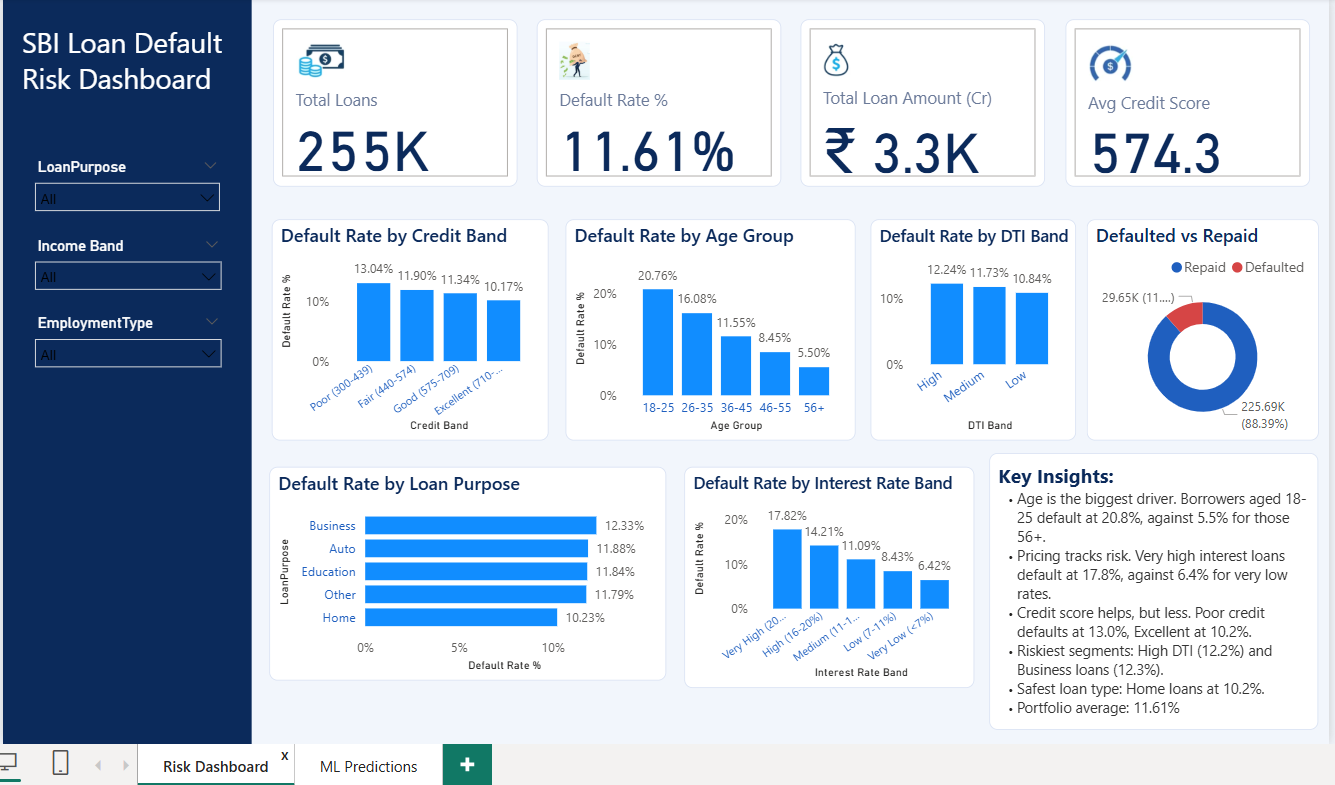

Layout of this report page (visuals, bound fields, positions):
{"tool":"powerbi","page":{"name":"Risk Dashboard","canvas":[1280,720],"ordinal":0},"visuals":[{"type":"shape","box":[0,0,240.1,720.4],"z":0},{"type":"textbox","box":[13.5,19.6,215.2,110.1],"z":1000},{"type":"slicer","fields":{"Values":["Loan_default.LoanPurpose"]},"box":[20.6,149.6,199,64.5],"z":2000},{"type":"slicer","fields":{"Values":["Loan_default.Income Band"]},"box":[20.6,225,200.3,64],"z":3000},{"type":"slicer","fields":{"Values":["Loan_default.EmploymentType"]},"box":[20.6,300.5,200.3,64],"z":4000},{"type":"cardVisual","fields":{"Data":["Loan_default.Total Loan Amount"]},"box":[770,20,236.2,161.2],"z":5000},{"type":"cardVisual","fields":{"Data":["Loan_default.Default Rate %"]},"box":[515,20.6,236,161.9],"z":6000},{"type":"cardVisual","fields":{"Data":["Loan_default.Total Loans"]},"box":[260,20,236,161.9],"z":7000},{"type":"cardVisual","fields":{"Data":["Loan_default.Avg Credit Score"]},"box":[1025,20.6,236,161.9],"z":8000},{"type":"clusteredColumnChart","title":"Default Rate by Credit Band","fields":{"Category":["Loan_default.Credit Band"],"Y":["Loan_default.Default Rate %"]},"box":[259.5,213.9,267.1,213.9],"z":9000},{"type":"clusteredColumnChart","title":"Default Rate by DTI Band","fields":{"Y":["Loan_default.Default Rate %"],"Category":["Loan_default.DTI Band"]},"box":[836.7,213.9,198.7,213.9],"z":10000},{"type":"clusteredColumnChart","title":"Default Rate by Age Group","fields":{"Y":["Loan_default.Default Rate %"],"Category":["Loan_default.Age Group"]},"box":[543,213.9,279.7,213.9],"z":11000},{"type":"clusteredBarChart","title":"Default Rate by Loan Purpose","fields":{"Y":["Loan_default.Default Rate %"],"Category":["Loan_default.LoanPurpose"]},"box":[257,451.9,383.5,206.3],"z":12000},{"type":"donutChart","title":"Defaulted vs Repaid","fields":{"Y":["Loan_default.Total Loans"],"Category":["Loan_default.Default Status"]},"box":[1045.6,213.9,224.1,213.9],"z":13000},{"type":"clusteredColumnChart","title":"Default Rate by Interest Rate Band","fields":{"Y":["Loan_default.Default Rate %"],"Category":["Loan_default.Interest Rate Band"]},"box":[657,451.9,279.7,213.9],"z":14000},{"type":"textbox","box":[951.9,439.2,317.7,267.1],"z":15000}]}

Visuals, with their boxes on the page's 1280x720 design canvas (x1, y1, x2, y2). These are canvas units, not pixel positions in the 1335x785 screenshot, which may show the page scaled, cropped or inside an application window:
shape: <region>0, 0, 240, 720</region>
textbox: <region>14, 20, 229, 130</region>
slicer - Loan_default.LoanPurpose: <region>21, 150, 220, 214</region>
slicer - Loan_default.Income Band: <region>21, 225, 221, 289</region>
slicer - Loan_default.EmploymentType: <region>21, 300, 221, 364</region>
cardVisual - Loan_default.Total Loan Amount: <region>770, 20, 1006, 181</region>
cardVisual - Loan_default.Default Rate %: <region>515, 21, 751, 182</region>
cardVisual - Loan_default.Total Loans: <region>260, 20, 496, 182</region>
cardVisual - Loan_default.Avg Credit Score: <region>1025, 21, 1261, 182</region>
"Default Rate by Credit Band" clusteredColumnChart: <region>260, 214, 527, 428</region>
"Default Rate by DTI Band" clusteredColumnChart: <region>837, 214, 1035, 428</region>
"Default Rate by Age Group" clusteredColumnChart: <region>543, 214, 823, 428</region>
"Default Rate by Loan Purpose" clusteredBarChart: <region>257, 452, 640, 658</region>
"Defaulted vs Repaid" donutChart: <region>1046, 214, 1270, 428</region>
"Default Rate by Interest Rate Band" clusteredColumnChart: <region>657, 452, 937, 666</region>
textbox: <region>952, 439, 1270, 706</region>
